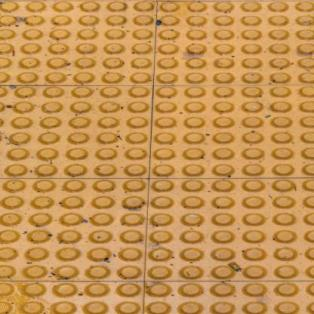Podoctatil: (2, 0, 314, 313)
